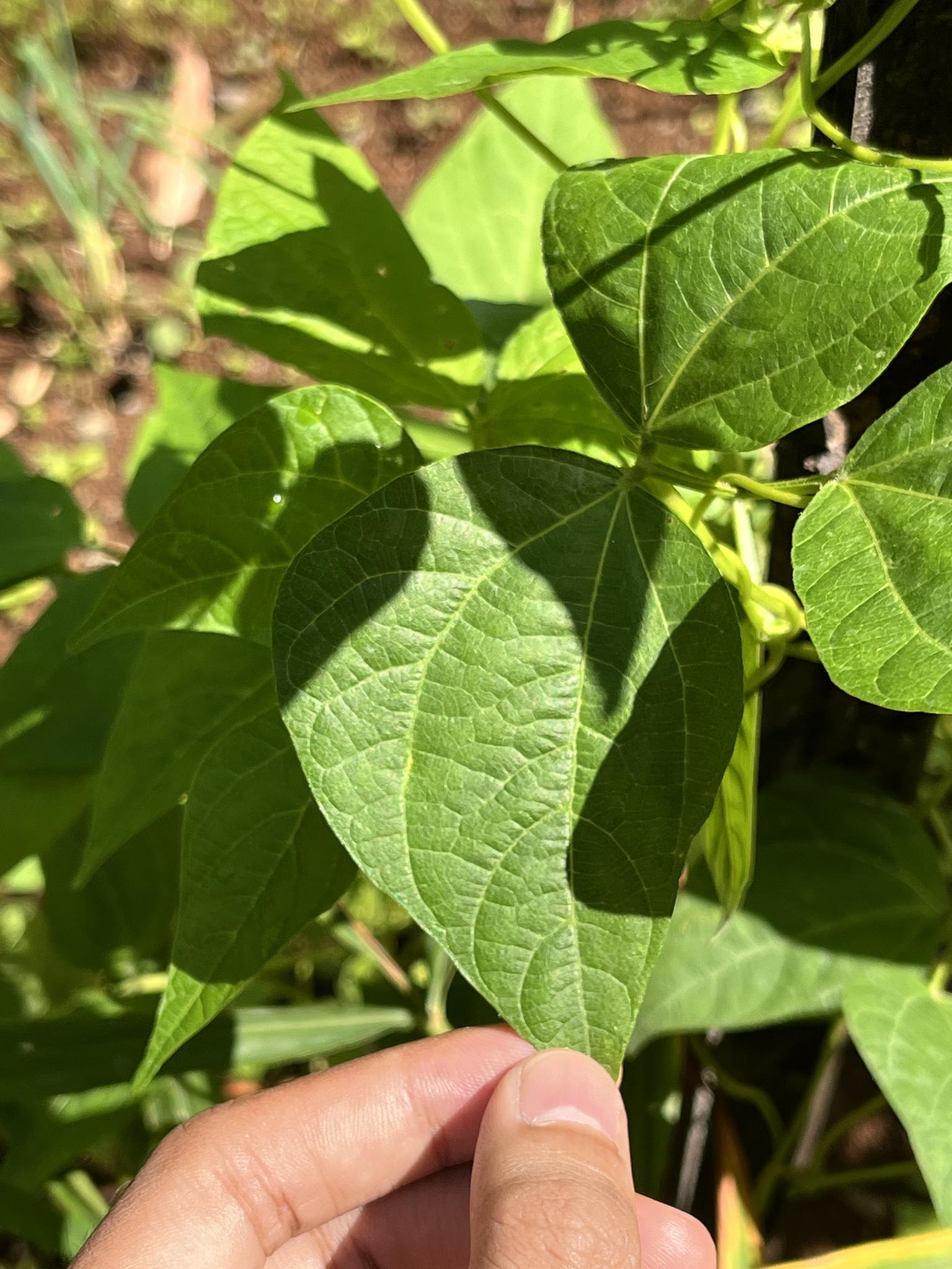sehat: (286, 432, 746, 1085)
